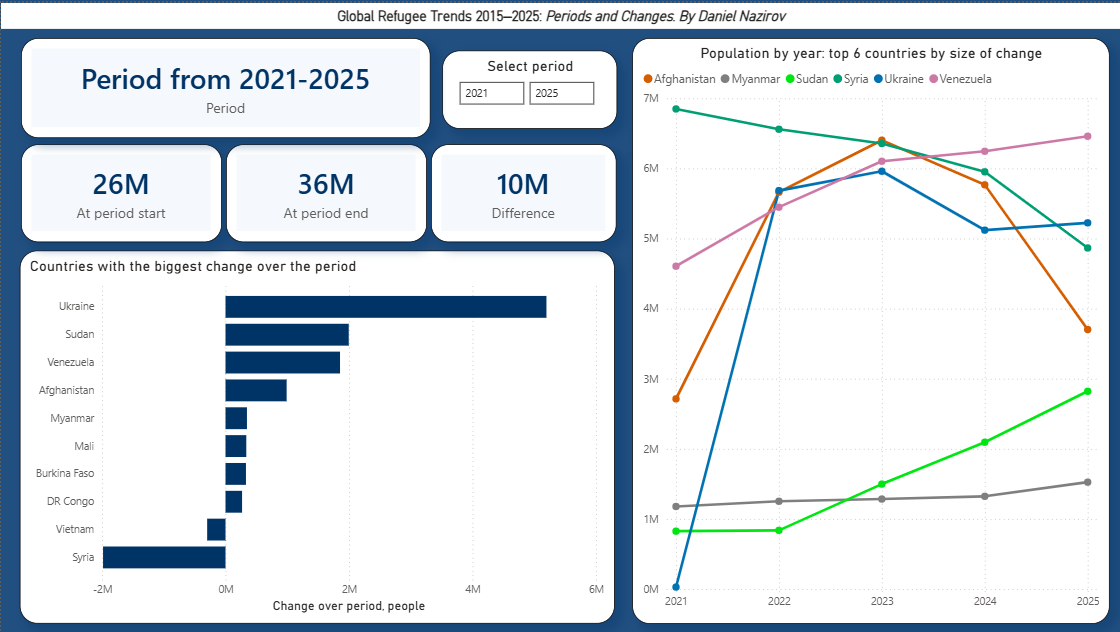

This screenshot's page, from the dashboard's own definition file:
{"tool":"powerbi","page":{"name":"Periods and changes","canvas":[1280,720],"ordinal":1},"visuals":[{"type":"clusteredBarChart","title":"Countries with the biggest change over the period","fields":{"Category":["refugees_stock_ru.Страна_происхождения"],"Y":["refugees_stock_ru.Изменение за период"]},"box":[20.9,283.2,679.6,426.3],"z":0},{"type":"slicer","title":"Select period","fields":{"Values":["Годы.Год"]},"box":[503.8,53.7,199.7,89.4],"z":1000},{"type":"cardVisual","fields":{"Data":["refugees_stock_ru.На начало периода"]},"box":[23.3,161.3,229.5,111.8],"z":2000},{"type":"cardVisual","fields":{"Data":["refugees_stock_ru.На конец периода"]},"box":[257.3,161.3,229.5,111.8],"z":3000},{"type":"cardVisual","fields":{"Data":["refugees_stock_ru.Подпись периода"]},"box":[23.3,40.5,468,114.8],"z":4000},{"type":"lineChart","title":"Population by year: top 6 countries by size of change","fields":{"Category":["Годы.Год"],"Series":["refugees_stock_ru.Страна_происхождения"],"Y":["refugees_stock_ru.Беженцы и нуждающиеся в защите"]},"box":[721.4,40.2,545.5,669.2],"z":5000},{"type":"cardVisual","fields":{"Data":["refugees_stock_ru.Изменение за период"]},"box":[491.3,161.3,211.6,111.8],"z":6000},{"type":"textbox","box":[0,0,1280.3,29.8],"z":7000}]}

Visuals, with their boxes in screenshot pixels (x1, y1, x2, y2), scaled from the page's 1280x720 canvas onto the 1120x632 screenshot:
"Countries with the biggest change over the period" clusteredBarChart: crop(18, 249, 613, 623)
"Select period" slicer: crop(441, 47, 616, 126)
cardVisual - refugees_stock_ru.На начало периода: crop(20, 142, 221, 240)
cardVisual - refugees_stock_ru.На конец периода: crop(225, 142, 426, 240)
cardVisual - refugees_stock_ru.Подпись периода: crop(20, 36, 430, 136)
"Population by year: top 6 countries by size of change" lineChart: crop(631, 35, 1109, 623)
cardVisual - refugees_stock_ru.Изменение за период: crop(430, 142, 615, 240)
textbox: crop(0, 0, 1119, 26)
